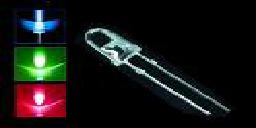LED: (85, 27, 236, 128)
